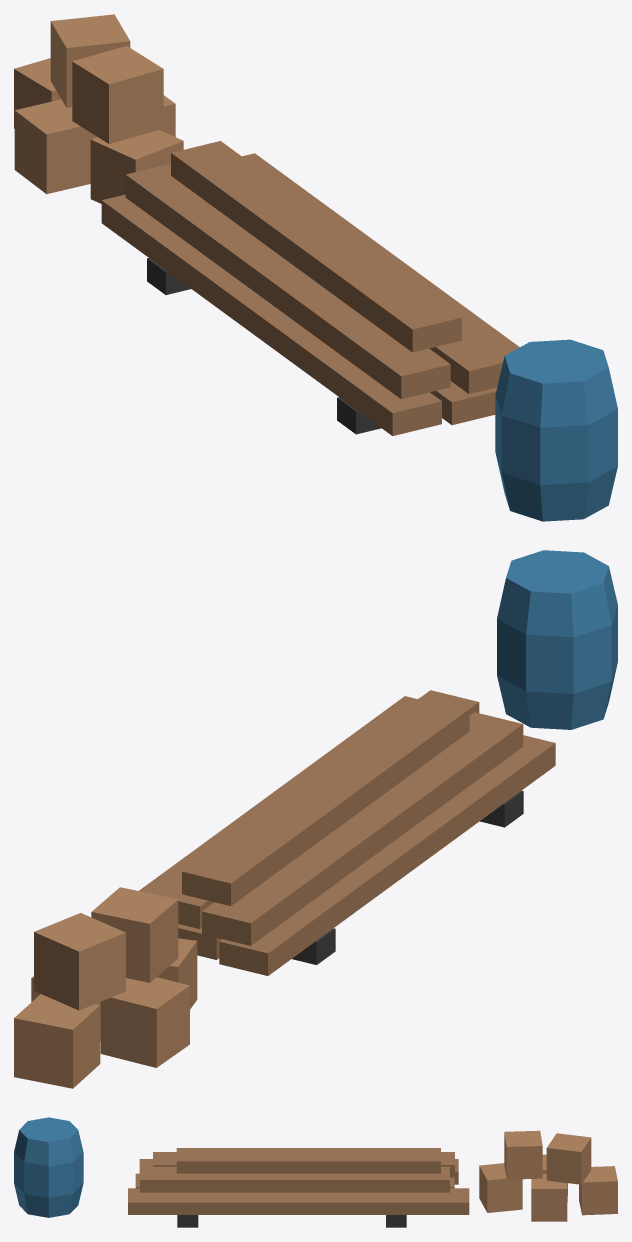
Rendered from construction-materials.glb.
The picture shows the model from 3 angles, top to bottom: view 1: azimuth 30°, elevation 25°; view 2: azimuth 150°, elevation 25°; view 3: azimuth 270°, elevation 25°; orthographic projection. The views are drawn at different scales.
Visible parts, largest first — view 1: Planks Wood V3, Box Stack Brown, Barrel; view 2: Planks Wood V3, Box Stack Brown, Barrel; view 3: Planks Wood V3, Box Stack Brown, Barrel.
Part boxes in pixels (box(x1,y1,x2,y2)): Planks Wood V3: box(101, 141, 519, 435); Box Stack Brown: box(14, 14, 183, 203); Barrel: box(495, 339, 617, 521); Planks Wood V3: box(139, 690, 555, 975); Box Stack Brown: box(14, 887, 197, 1088); Barrel: box(497, 550, 617, 729); Planks Wood V3: box(128, 1148, 469, 1227); Box Stack Brown: box(479, 1130, 617, 1221); Barrel: box(14, 1117, 83, 1217).
Bounding box in the file's own units: 1.5 × 1.21 × 8.69.
1 material, 1 textured.
